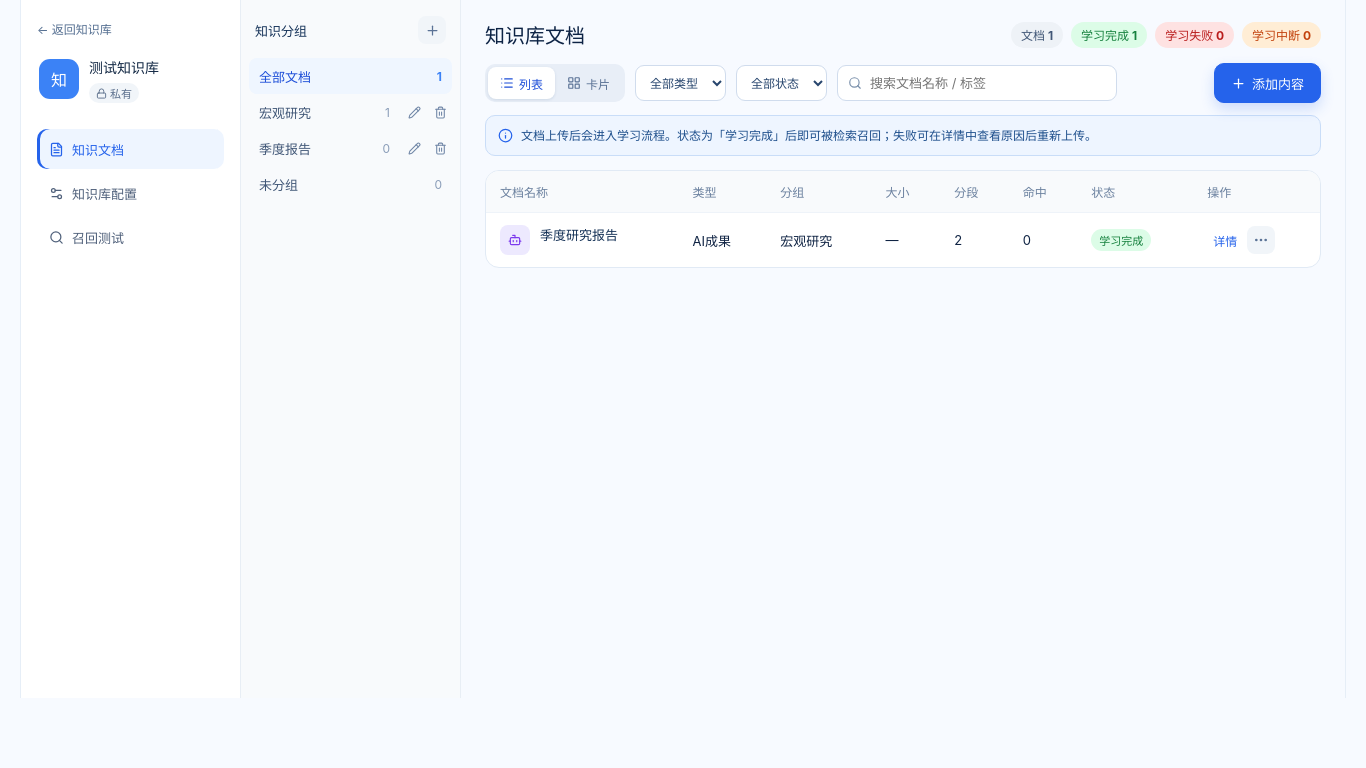
Test: 知识库自主分组 › 新增分组成功后刷新当前库的分组选项
Expected: the heading "知识库文档" is shown, top-left (485, 20), bottom-right (585, 49)
Click the button named "添加分组" at (432, 30), box top-left (418, 16), bottom-right (446, 44)
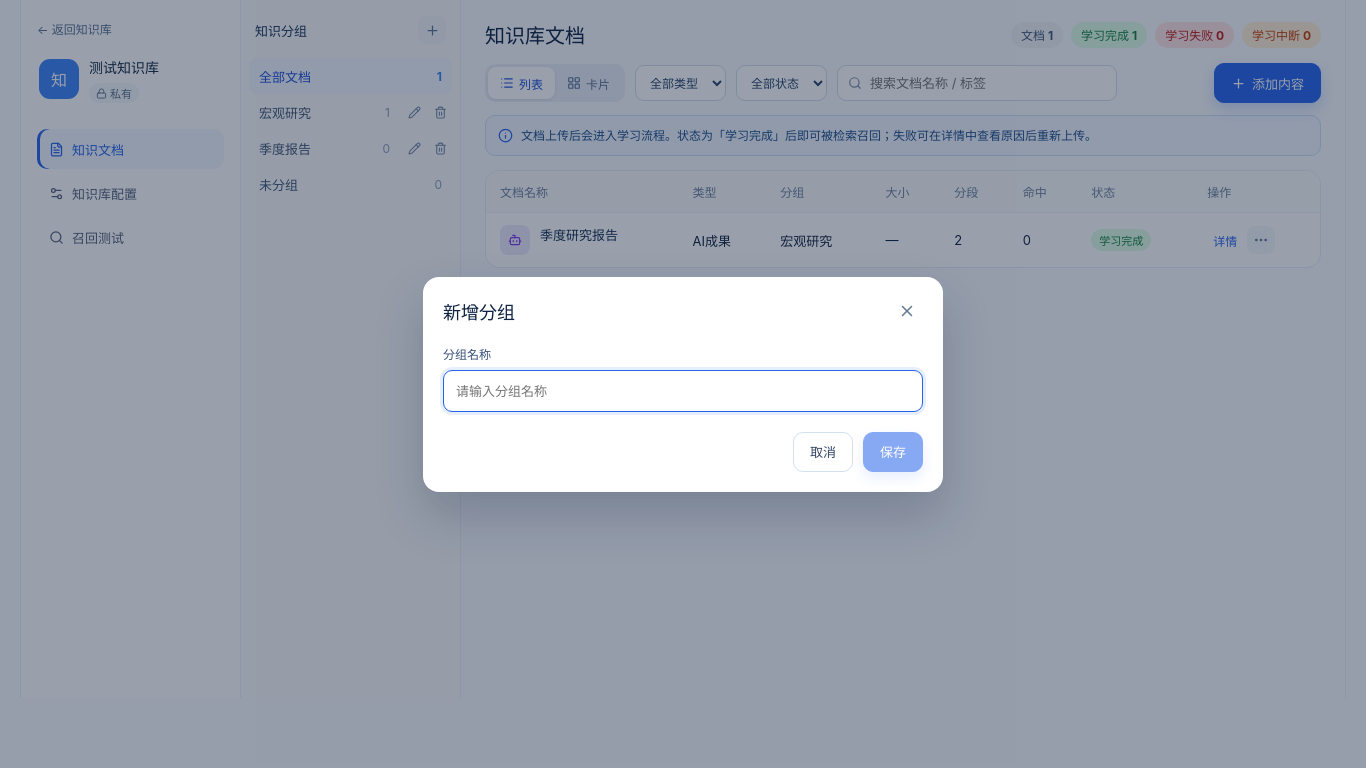
Type " 专题资料 " into the field labelled "分组名称" at (683, 390), box top-left (443, 370), bottom-right (923, 412)
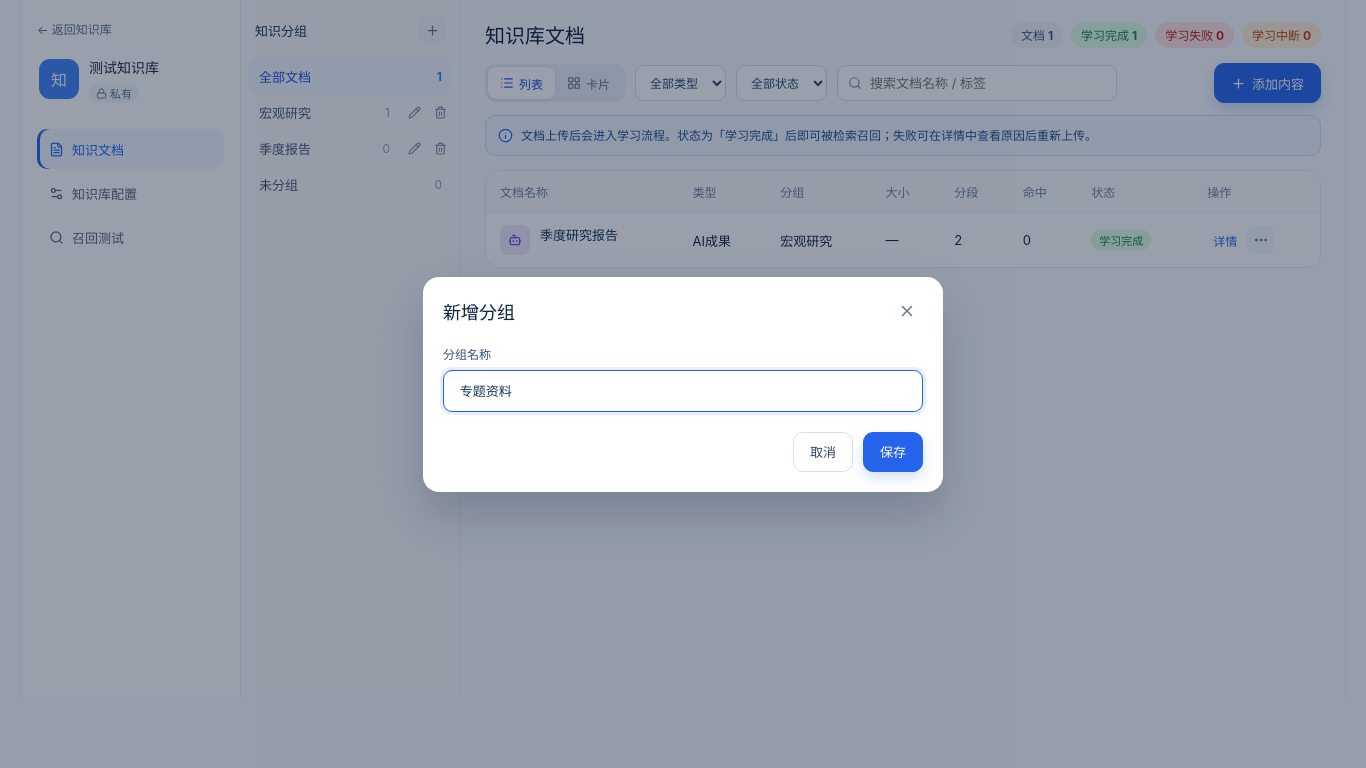
Click the button "保存" at (893, 452), box top-left (863, 432), bottom-right (923, 472)
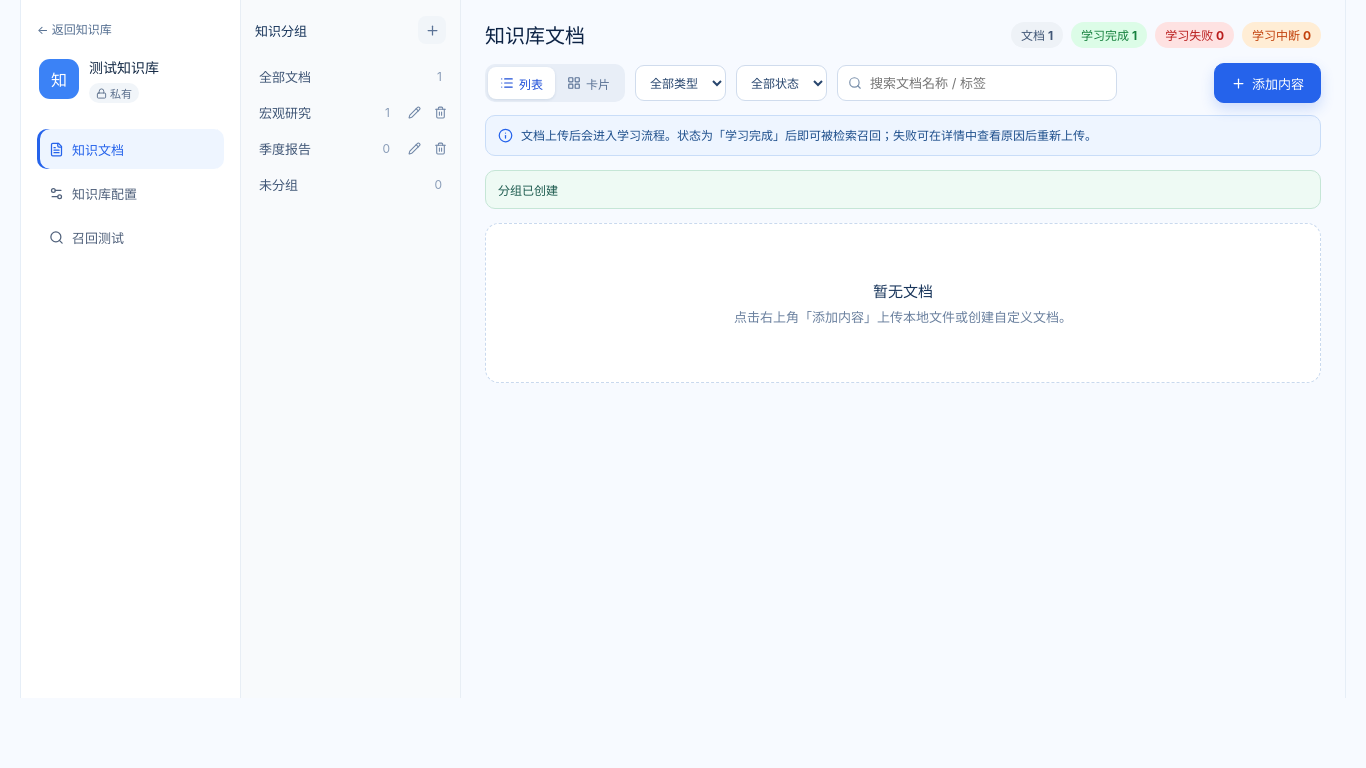
Expected: the dialog is gone
